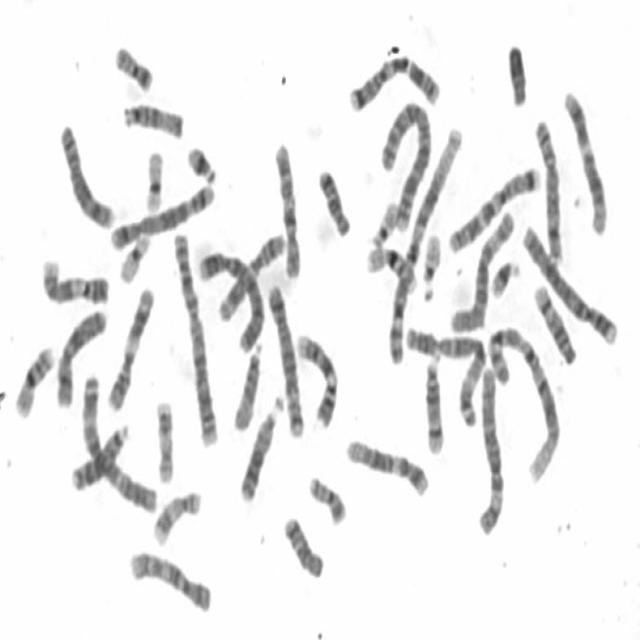A1: (382, 117, 465, 368), (482, 314, 563, 484)
A2: (168, 223, 220, 449), (375, 90, 434, 232)
A3: (76, 364, 160, 514), (401, 318, 486, 428)
B4: (518, 214, 620, 346), (192, 240, 266, 354)
B5: (105, 174, 216, 252), (263, 273, 307, 440)
C10: (124, 540, 215, 616), (269, 132, 303, 280)
C11: (214, 223, 288, 323), (102, 277, 156, 413)
C12: (558, 80, 610, 238), (340, 428, 432, 499)
C6: (446, 200, 518, 336), (472, 357, 507, 538)
C7: (443, 157, 544, 256), (343, 46, 442, 113)
C8: (54, 113, 116, 231), (529, 107, 566, 266)
C9: (290, 323, 339, 430), (36, 249, 111, 308)
D13: (234, 386, 286, 504), (66, 413, 132, 494)
D14: (528, 276, 578, 367), (420, 346, 446, 457)
D15: (228, 334, 265, 434), (116, 91, 186, 140)
E16: (9, 335, 57, 419), (360, 234, 420, 294)
E17: (148, 480, 204, 548), (150, 391, 177, 486)
E18: (278, 507, 326, 581), (313, 158, 353, 238)
F19: (114, 223, 152, 285), (139, 140, 166, 214)
F20: (108, 34, 156, 94), (303, 466, 348, 527)
G21: (182, 135, 220, 186), (484, 249, 522, 300)
G22: (417, 222, 444, 303), (366, 192, 400, 249)
X: (50, 299, 109, 410)
Y: (501, 33, 530, 108)
